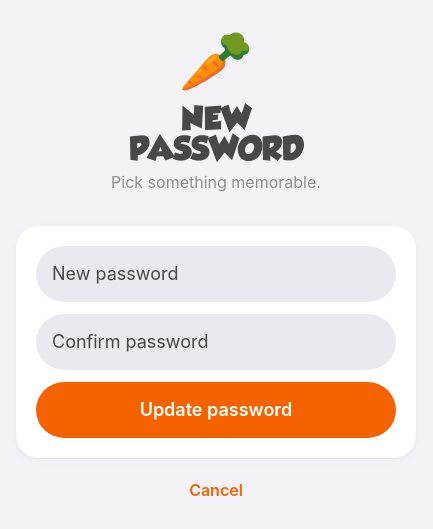
Test: Reset › surfaces the Supabase error and keeps the form usable
Type "abcd1234" into the password field with placeholder "New password" at [216, 274], box top-left (36, 246), bottom-right (396, 302)
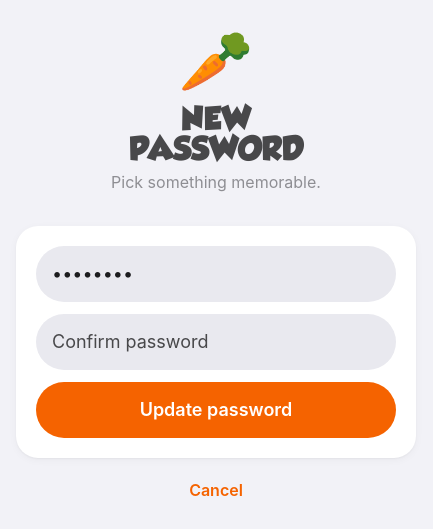
Type "abcd1234" into the password field with placeholder "Confirm password" at [216, 342], box top-left (36, 314), bottom-right (396, 370)
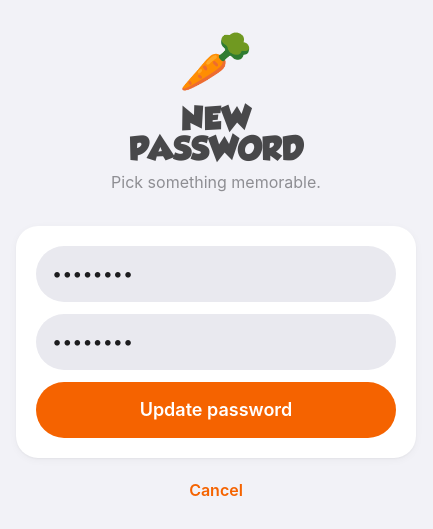
Click the button "Update password" at [216, 410], box top-left (36, 382), bottom-right (396, 438)
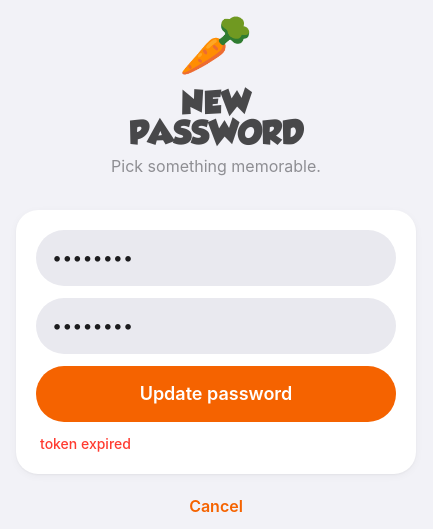
Expected: the button "Update password" is enabled, top-left (36, 366), bottom-right (396, 422)
Now the text "token expired" is shown, box top-left (40, 435), bottom-right (131, 452)
